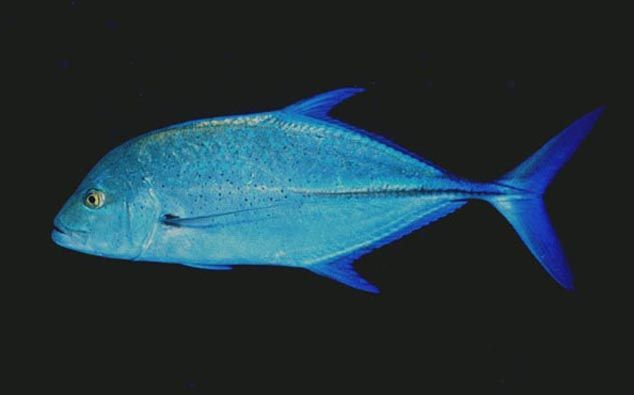fish: (50, 88, 607, 297)
